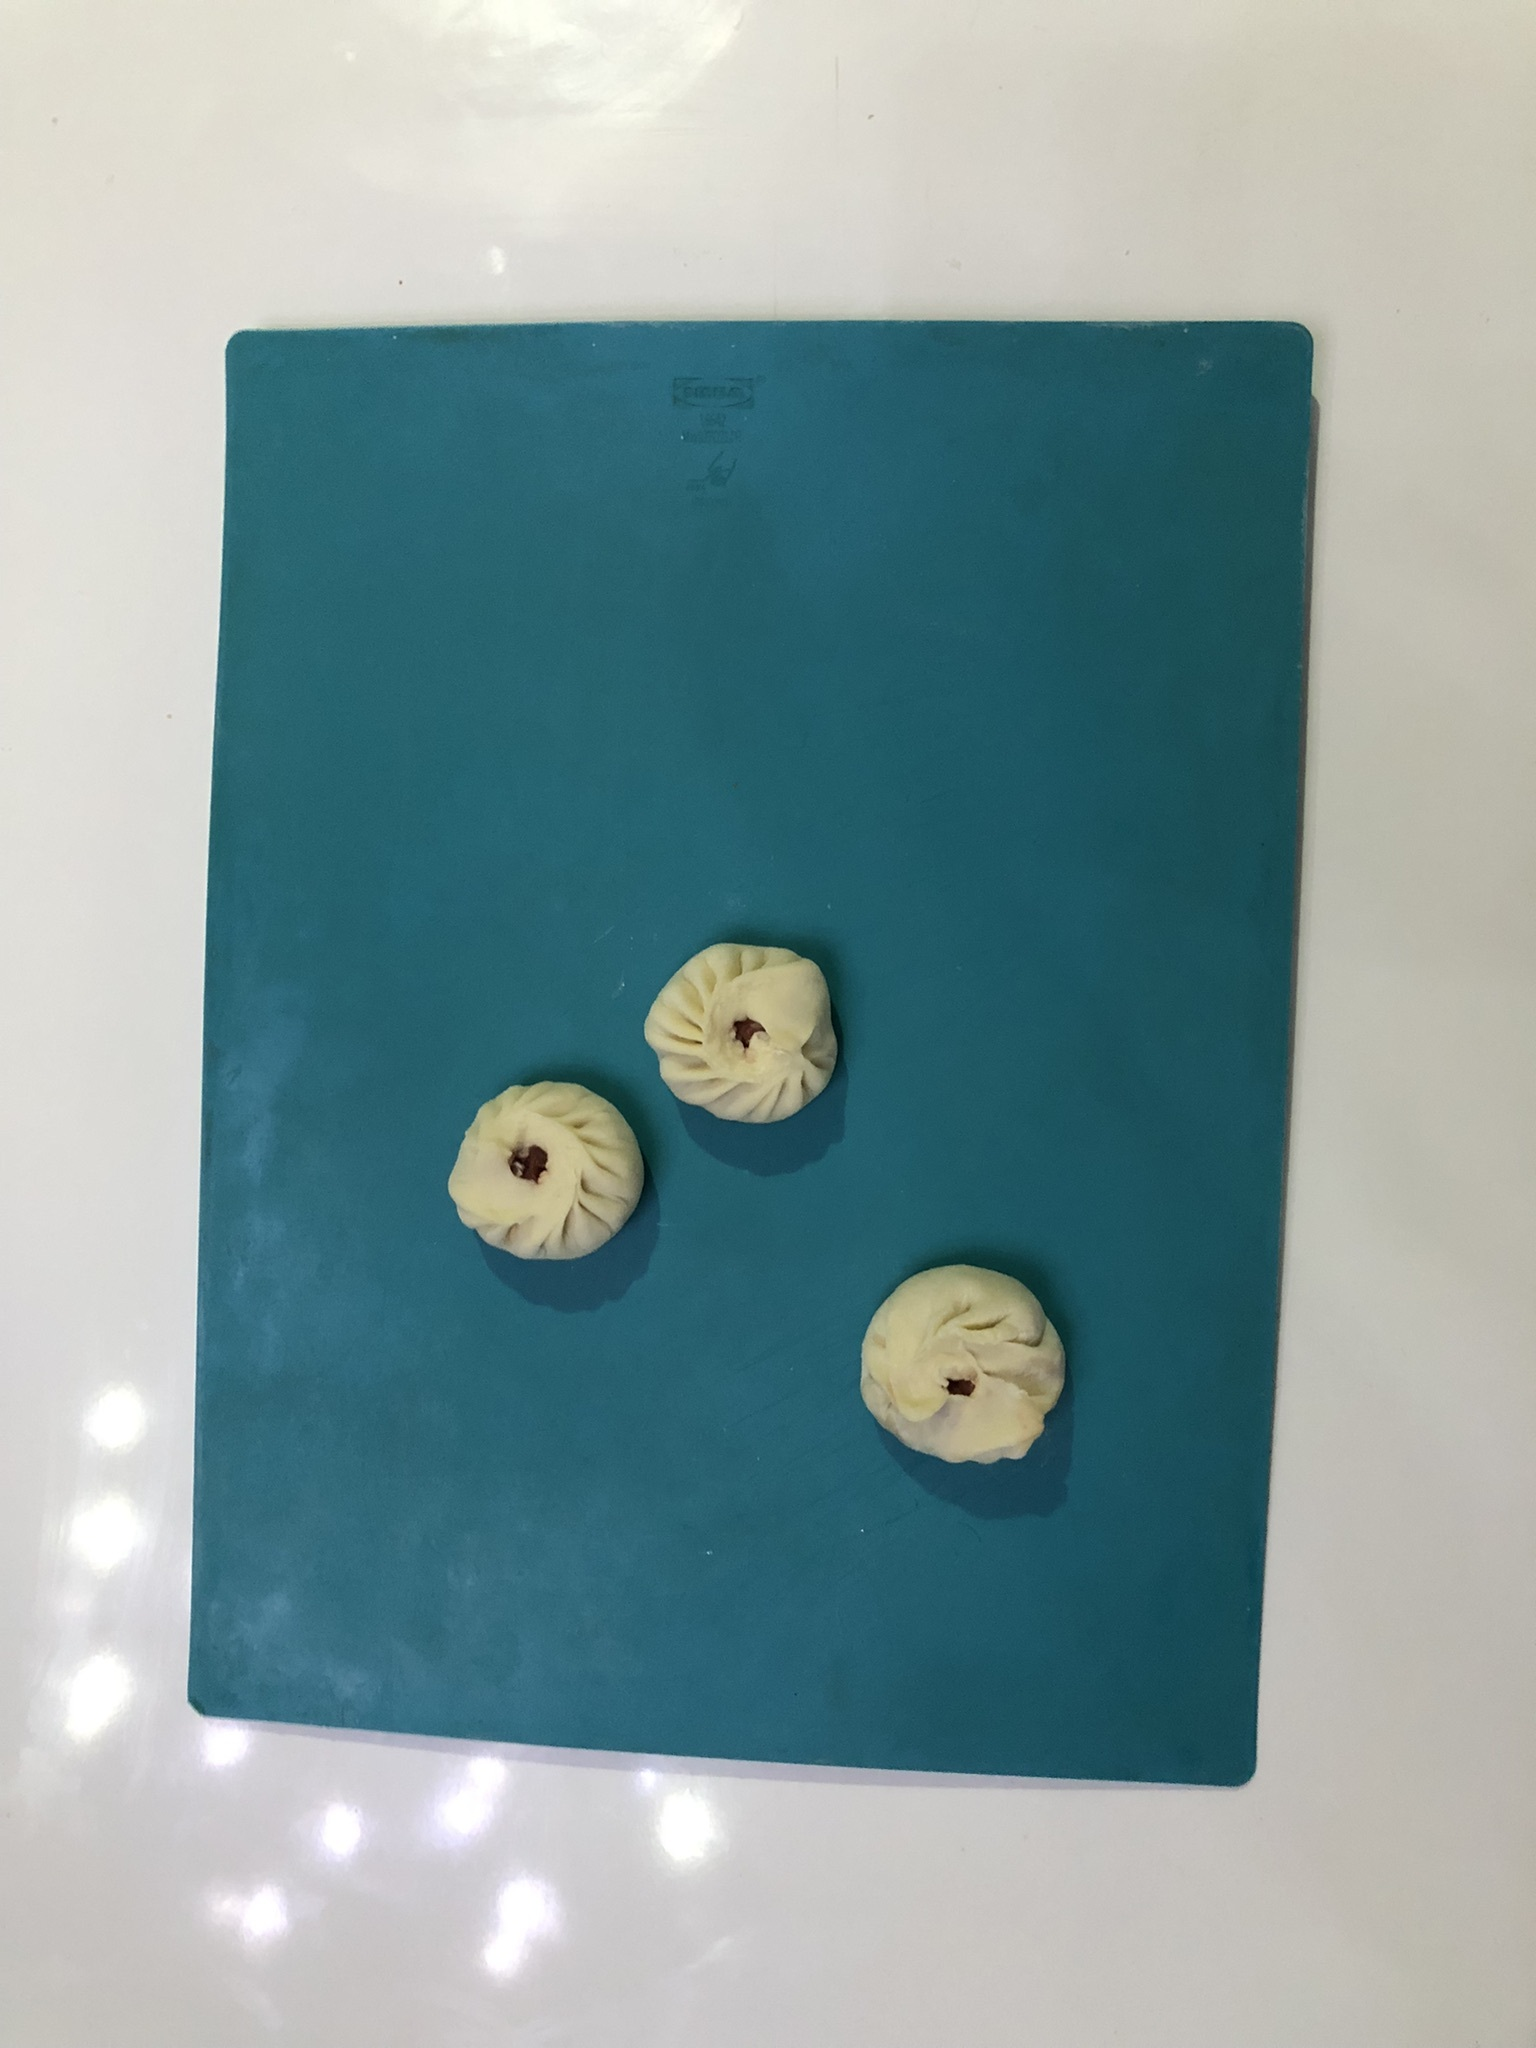buuz: (845, 1255, 1075, 1474), (436, 1068, 657, 1280), (636, 930, 855, 1135)
